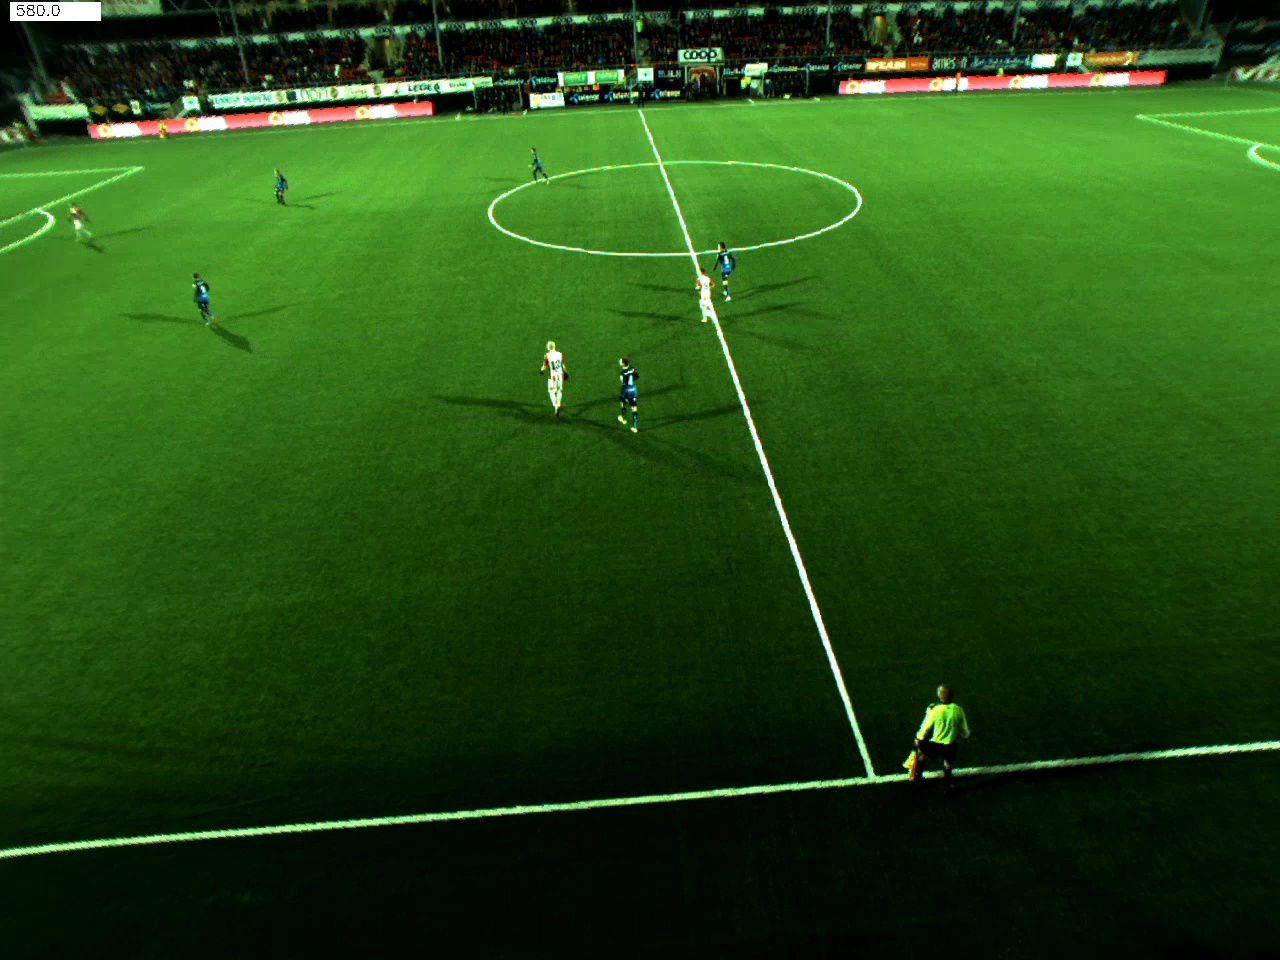blue: (613, 357, 649, 449), (708, 235, 746, 302), (187, 270, 219, 335), (520, 142, 552, 185), (269, 169, 292, 202)
red: (539, 335, 571, 419), (689, 264, 721, 325), (65, 198, 98, 245)
yellow: (910, 680, 969, 782)
